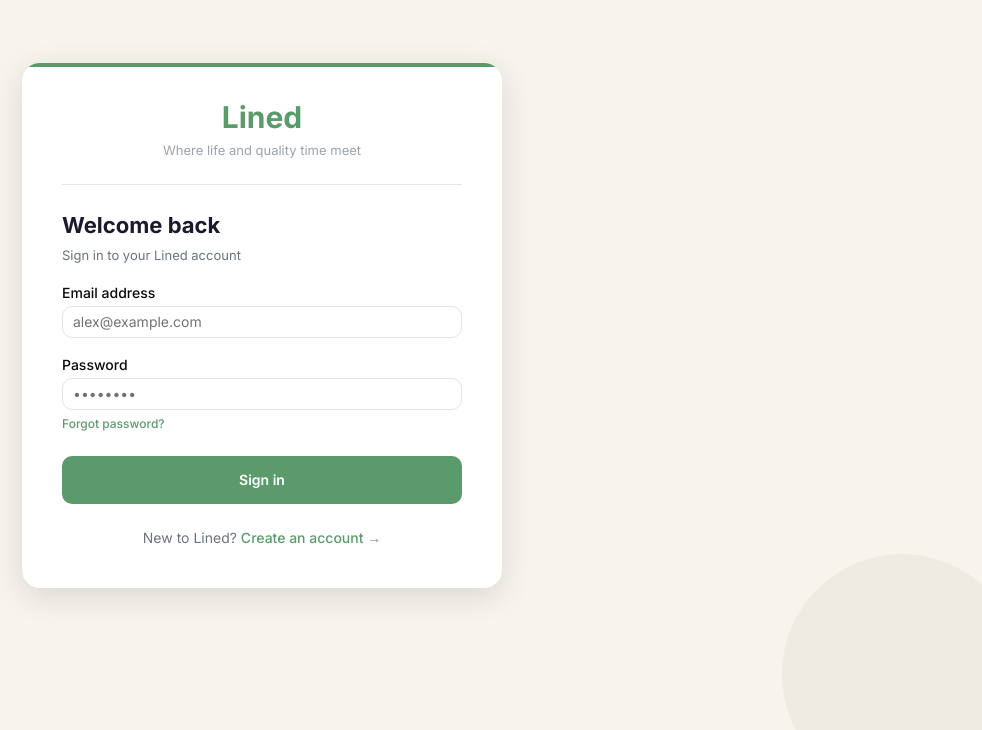
Test case: SignInPage › shows a cooldown and disables submission after a rate-limit response
The width and height of the screenshot is (982, 730).
Type "alex@lined.app" into the field labelled "Email address" at (262, 322), box x1=62 y1=306 x2=462 y2=338
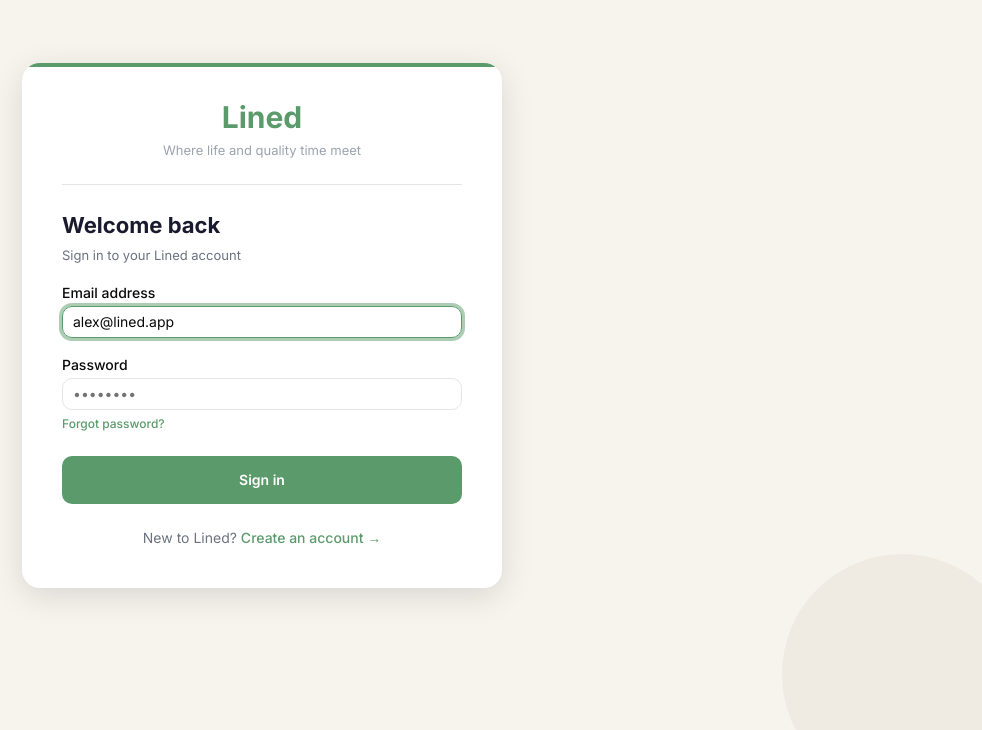
Type "password123" into the password field labelled "Password" at (262, 394), box x1=62 y1=378 x2=462 y2=410
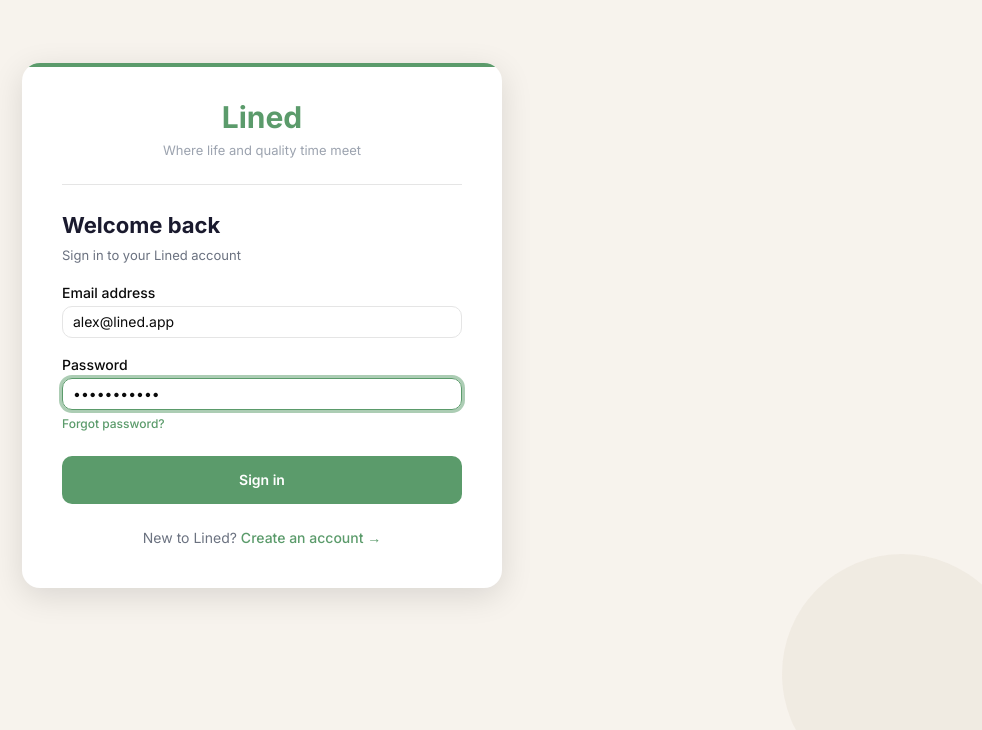
Click the button "Sign in" at (262, 480), box x1=62 y1=456 x2=462 y2=504
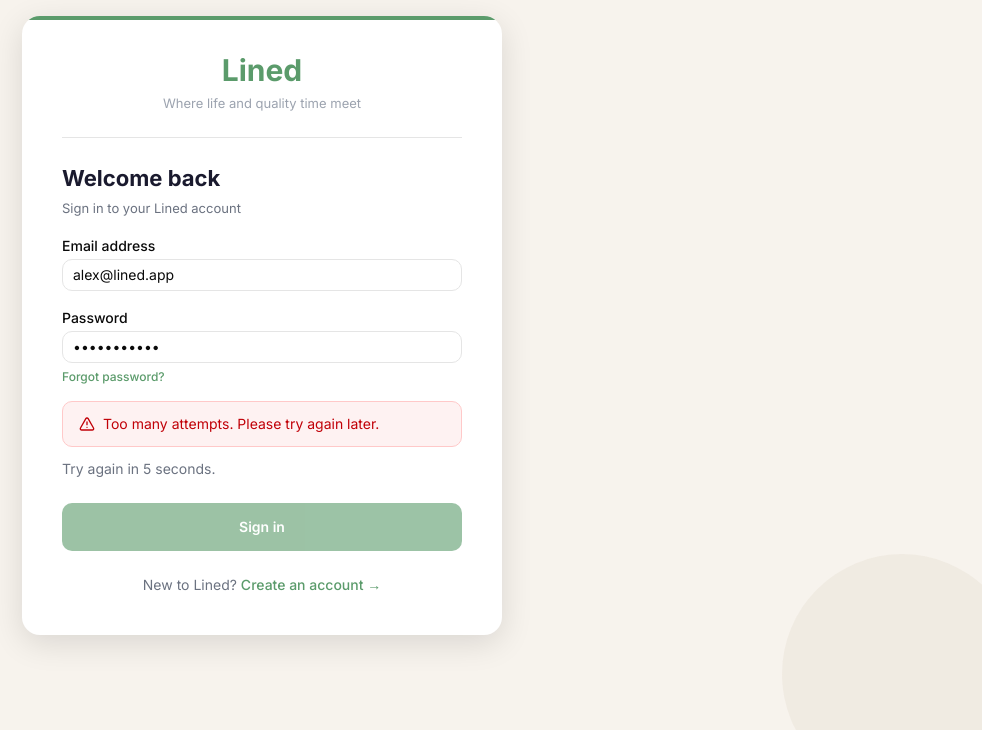
Result: the text "Too many attempts. Please try again later." is shown at x1=103 y1=414 x2=379 y2=434
Result: the message "Try again in 5 seconds." is shown at x1=62 y1=460 x2=216 y2=476
Result: the button "Sign in" is disabled at x1=62 y1=502 x2=462 y2=550
